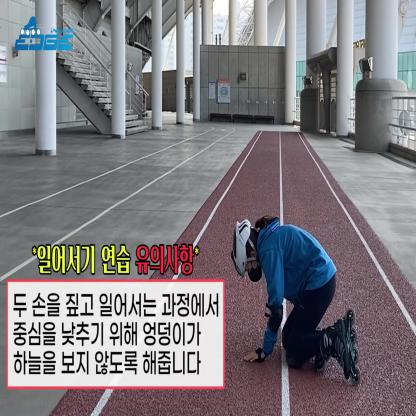Fall_Down: (231, 222, 351, 380)
